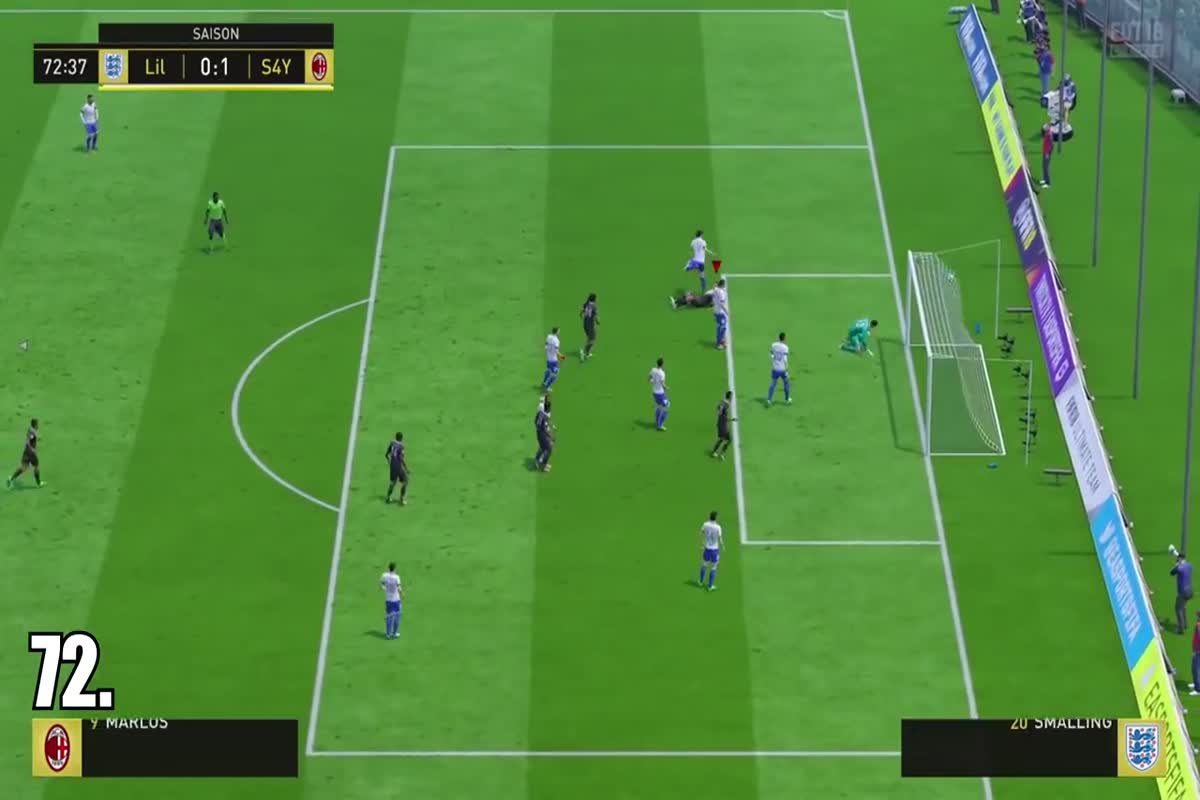ball: (938, 263, 964, 289)
